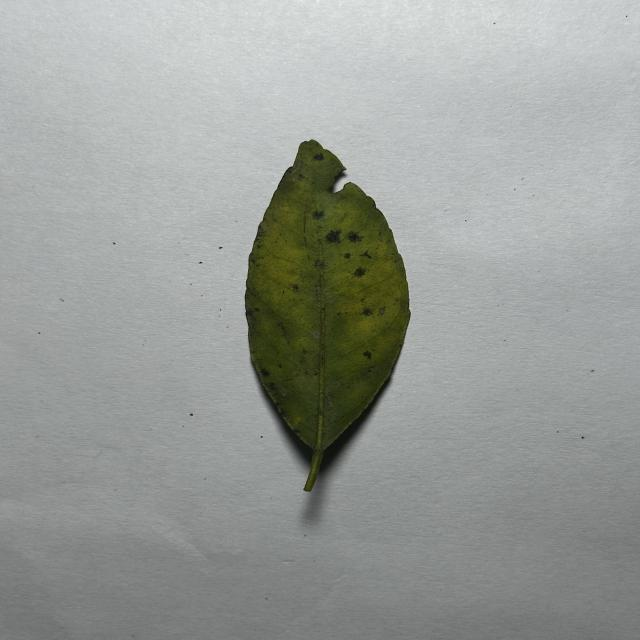sooty_mold: (245, 140, 410, 490)
